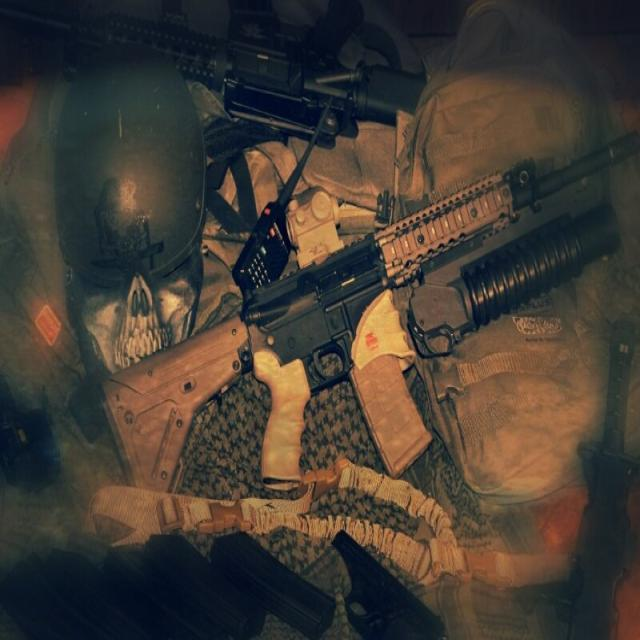firearm: (104, 130, 638, 491), (1, 0, 428, 127)
pistol: (334, 528, 443, 640)
